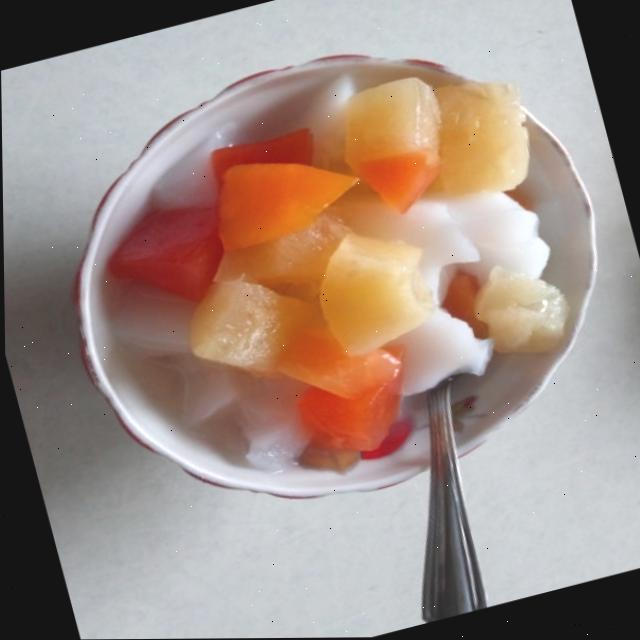汤锅炖物: (137, 206, 439, 482)
熟制海鲜: (371, 48, 533, 196)
牛肉菜式: (400, 161, 640, 434)
米饭主食: (82, 0, 375, 240)
